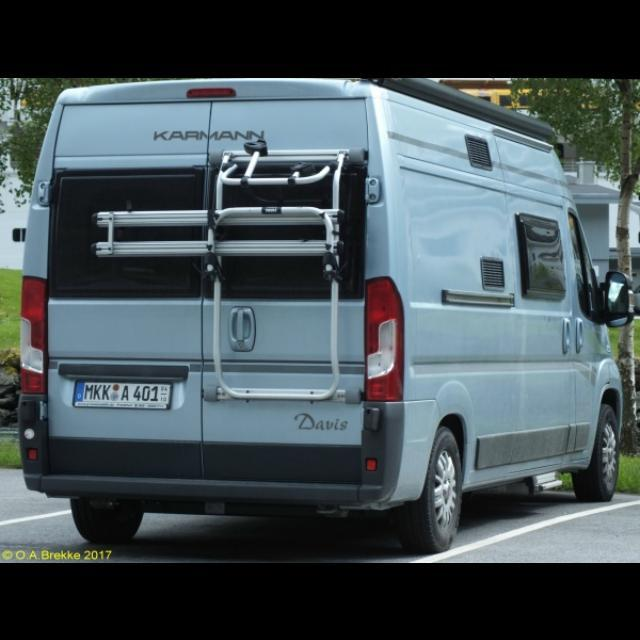license-plates: (73, 382, 170, 410)
